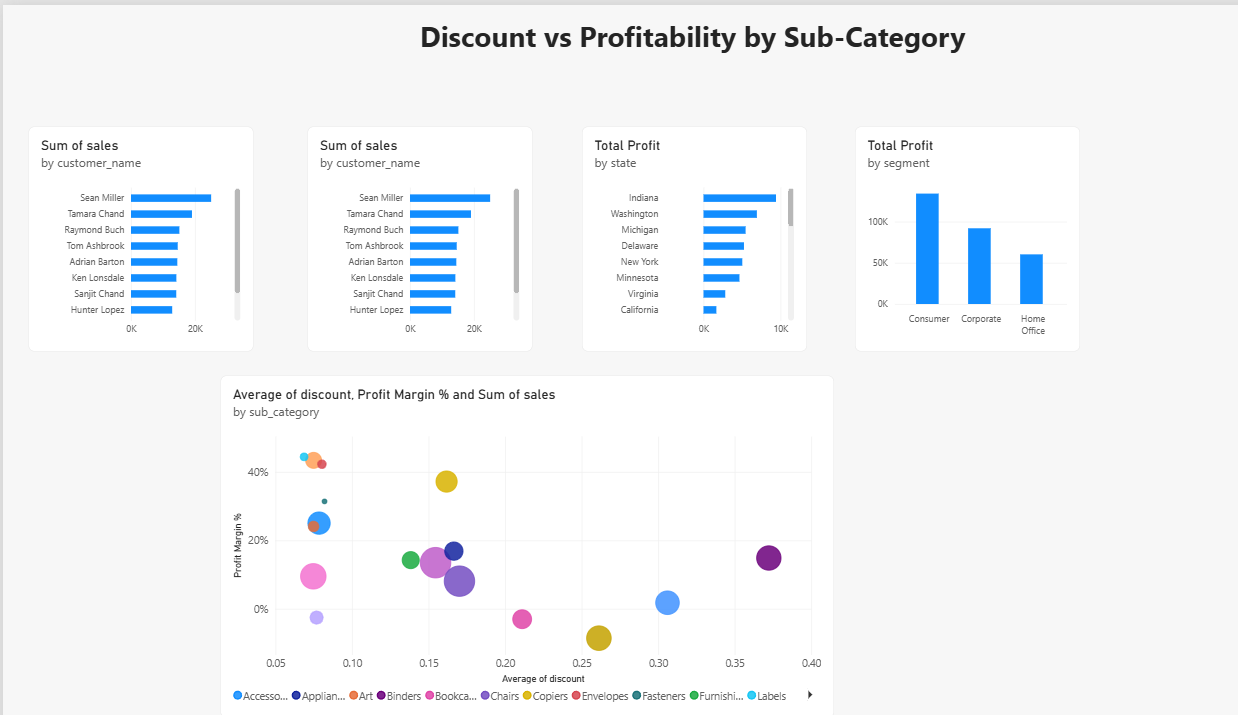

The dashboard page shown, as its layout file describes it:
{"tool":"powerbi","page":{"name":"Customer & Regional Insights","canvas":[1920,1080],"ordinal":2},"visuals":[{"type":"textbox","box":[556,16,968,264],"z":0},{"type":"clusteredBarChart","fields":{"Category":["company_insights_360 superstore_sales.customer_name"],"Y":["Sum(company_insights_360 superstore_sales.sales)"]},"box":[34,162,300,300],"z":1},{"type":"clusteredBarChart","fields":{"Category":["company_insights_360 superstore_sales.customer_name"],"Y":["Sum(company_insights_360 superstore_sales.sales)"]},"box":[406,162,300,300],"z":2},{"type":"clusteredBarChart","fields":{"Category":["company_insights_360 superstore_sales.state"],"Y":["company_insights_360 superstore_sales.Total Profit"]},"box":[772,162,300,300],"z":3},{"type":"clusteredColumnChart","fields":{"Category":["company_insights_360 superstore_sales.segment"],"Y":["company_insights_360 superstore_sales.Total Profit"]},"box":[1136,162,300,300],"z":4},{"type":"scatterChart","fields":{"Series":["company_insights_360 superstore_sales.sub_category"],"Size":["Sum(company_insights_360 superstore_sales.sales)"],"X":["Avg(company_insights_360 superstore_sales.discount)"],"Y":["company_insights_360 superstore_sales.Profit Margin %"]},"box":[290,494,818,458],"z":5}]}

Visuals, with their boxes in screenshot pixels (x1, y1, x2, y2), scaled from the page's 1920x1080 canvas onto the 1240x715 screenshot:
textbox: (left=359, top=11, right=984, bottom=185)
clusteredBarChart - company_insights_360 superstore_sales.customer_name x Sum(company_insights_360 superstore_sales.sales): (left=22, top=107, right=216, bottom=306)
clusteredBarChart - company_insights_360 superstore_sales.customer_name x Sum(company_insights_360 superstore_sales.sales): (left=262, top=107, right=456, bottom=306)
clusteredBarChart - company_insights_360 superstore_sales.state x company_insights_360 superstore_sales.Total Profit: (left=499, top=107, right=692, bottom=306)
clusteredColumnChart - company_insights_360 superstore_sales.segment x company_insights_360 superstore_sales.Total Profit: (left=734, top=107, right=927, bottom=306)
scatterChart - company_insights_360 superstore_sales.sub_category x Sum(company_insights_360 superstore_sales.sales): (left=187, top=327, right=716, bottom=630)
